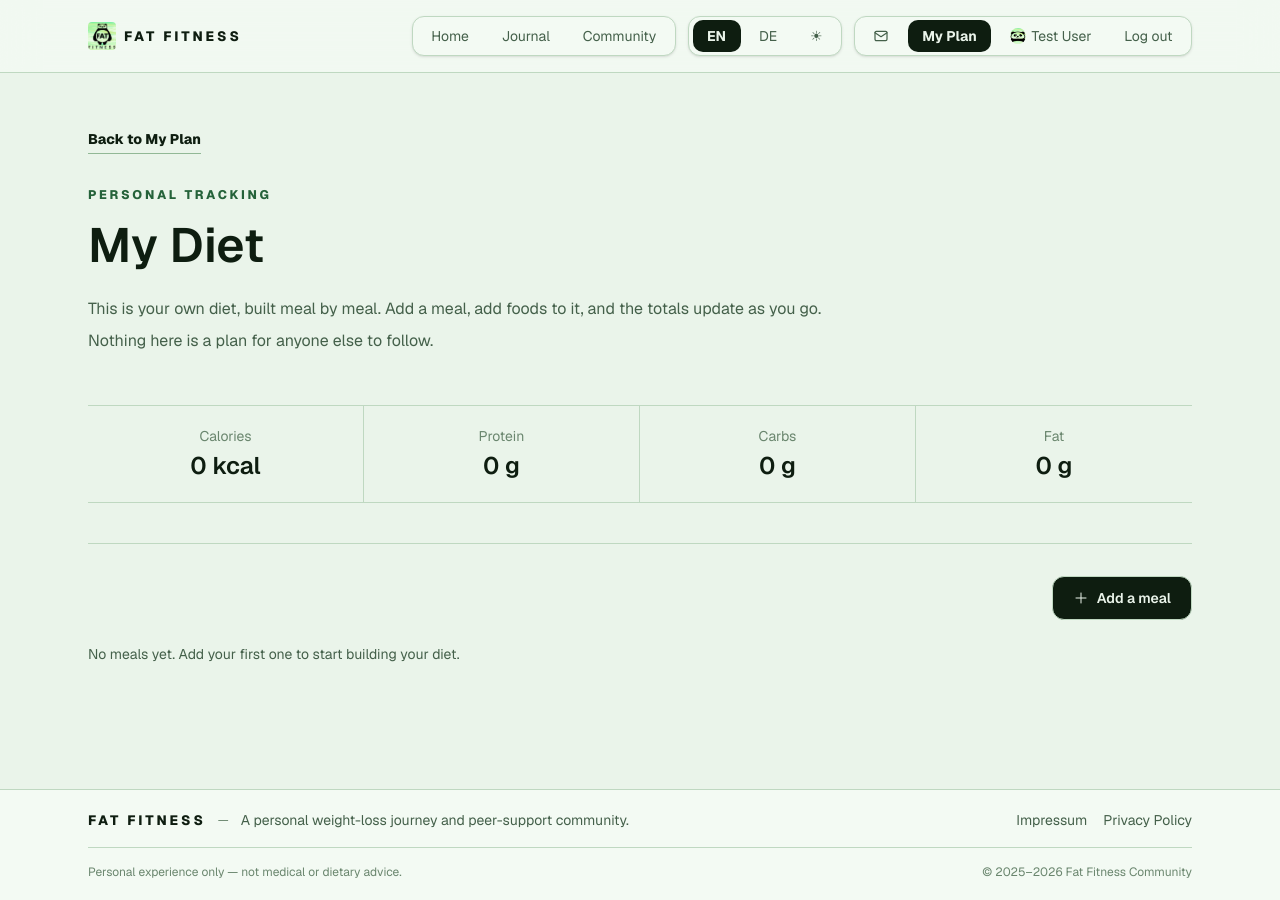
Scenario: MyPlanDietView › adds a meal and shows it in the list
Step 1. Click the button "Add a meal" → (1122, 598), box [1052,576,1192,620]
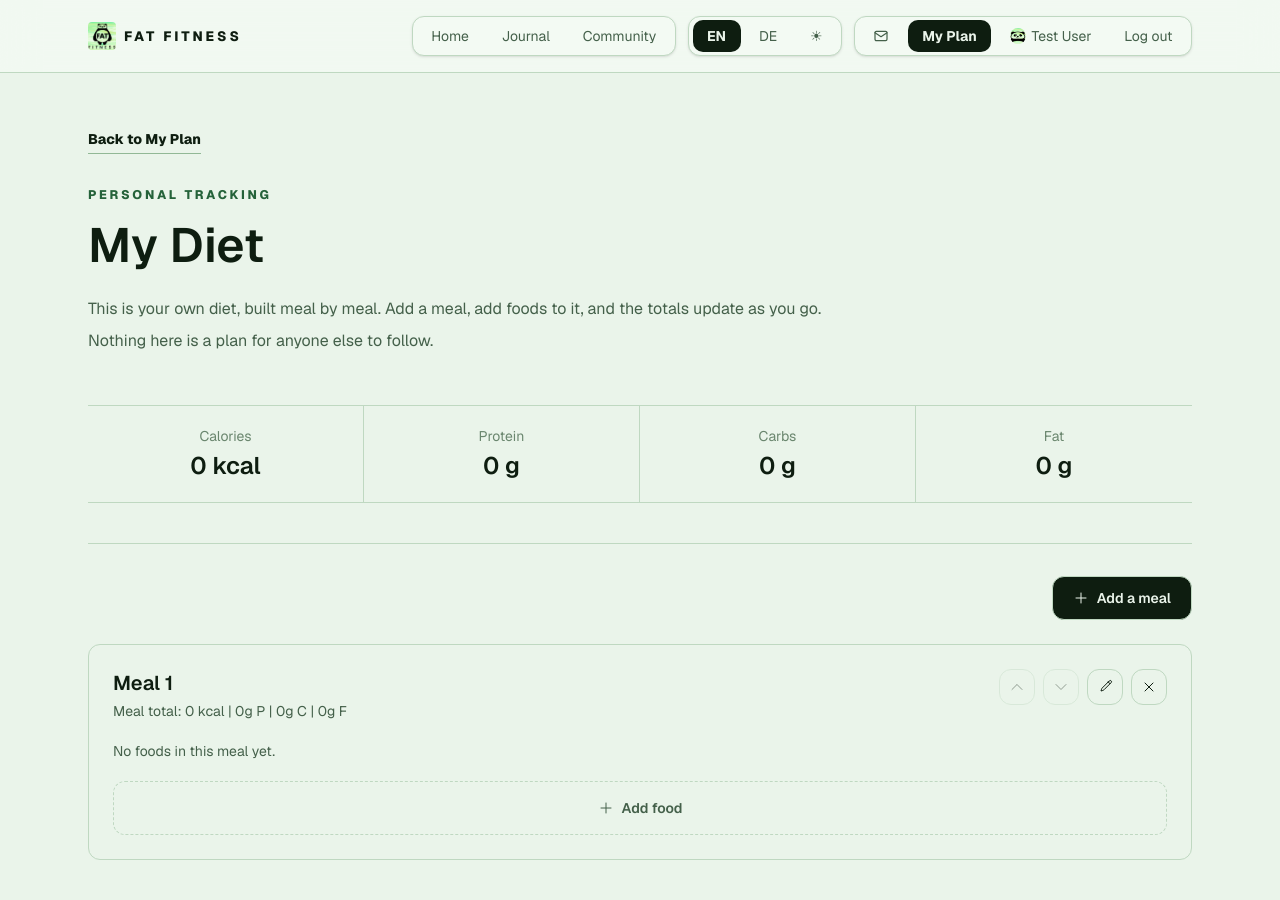
Expected: the heading "Meal 1" is shown, [113,670,173,696]
